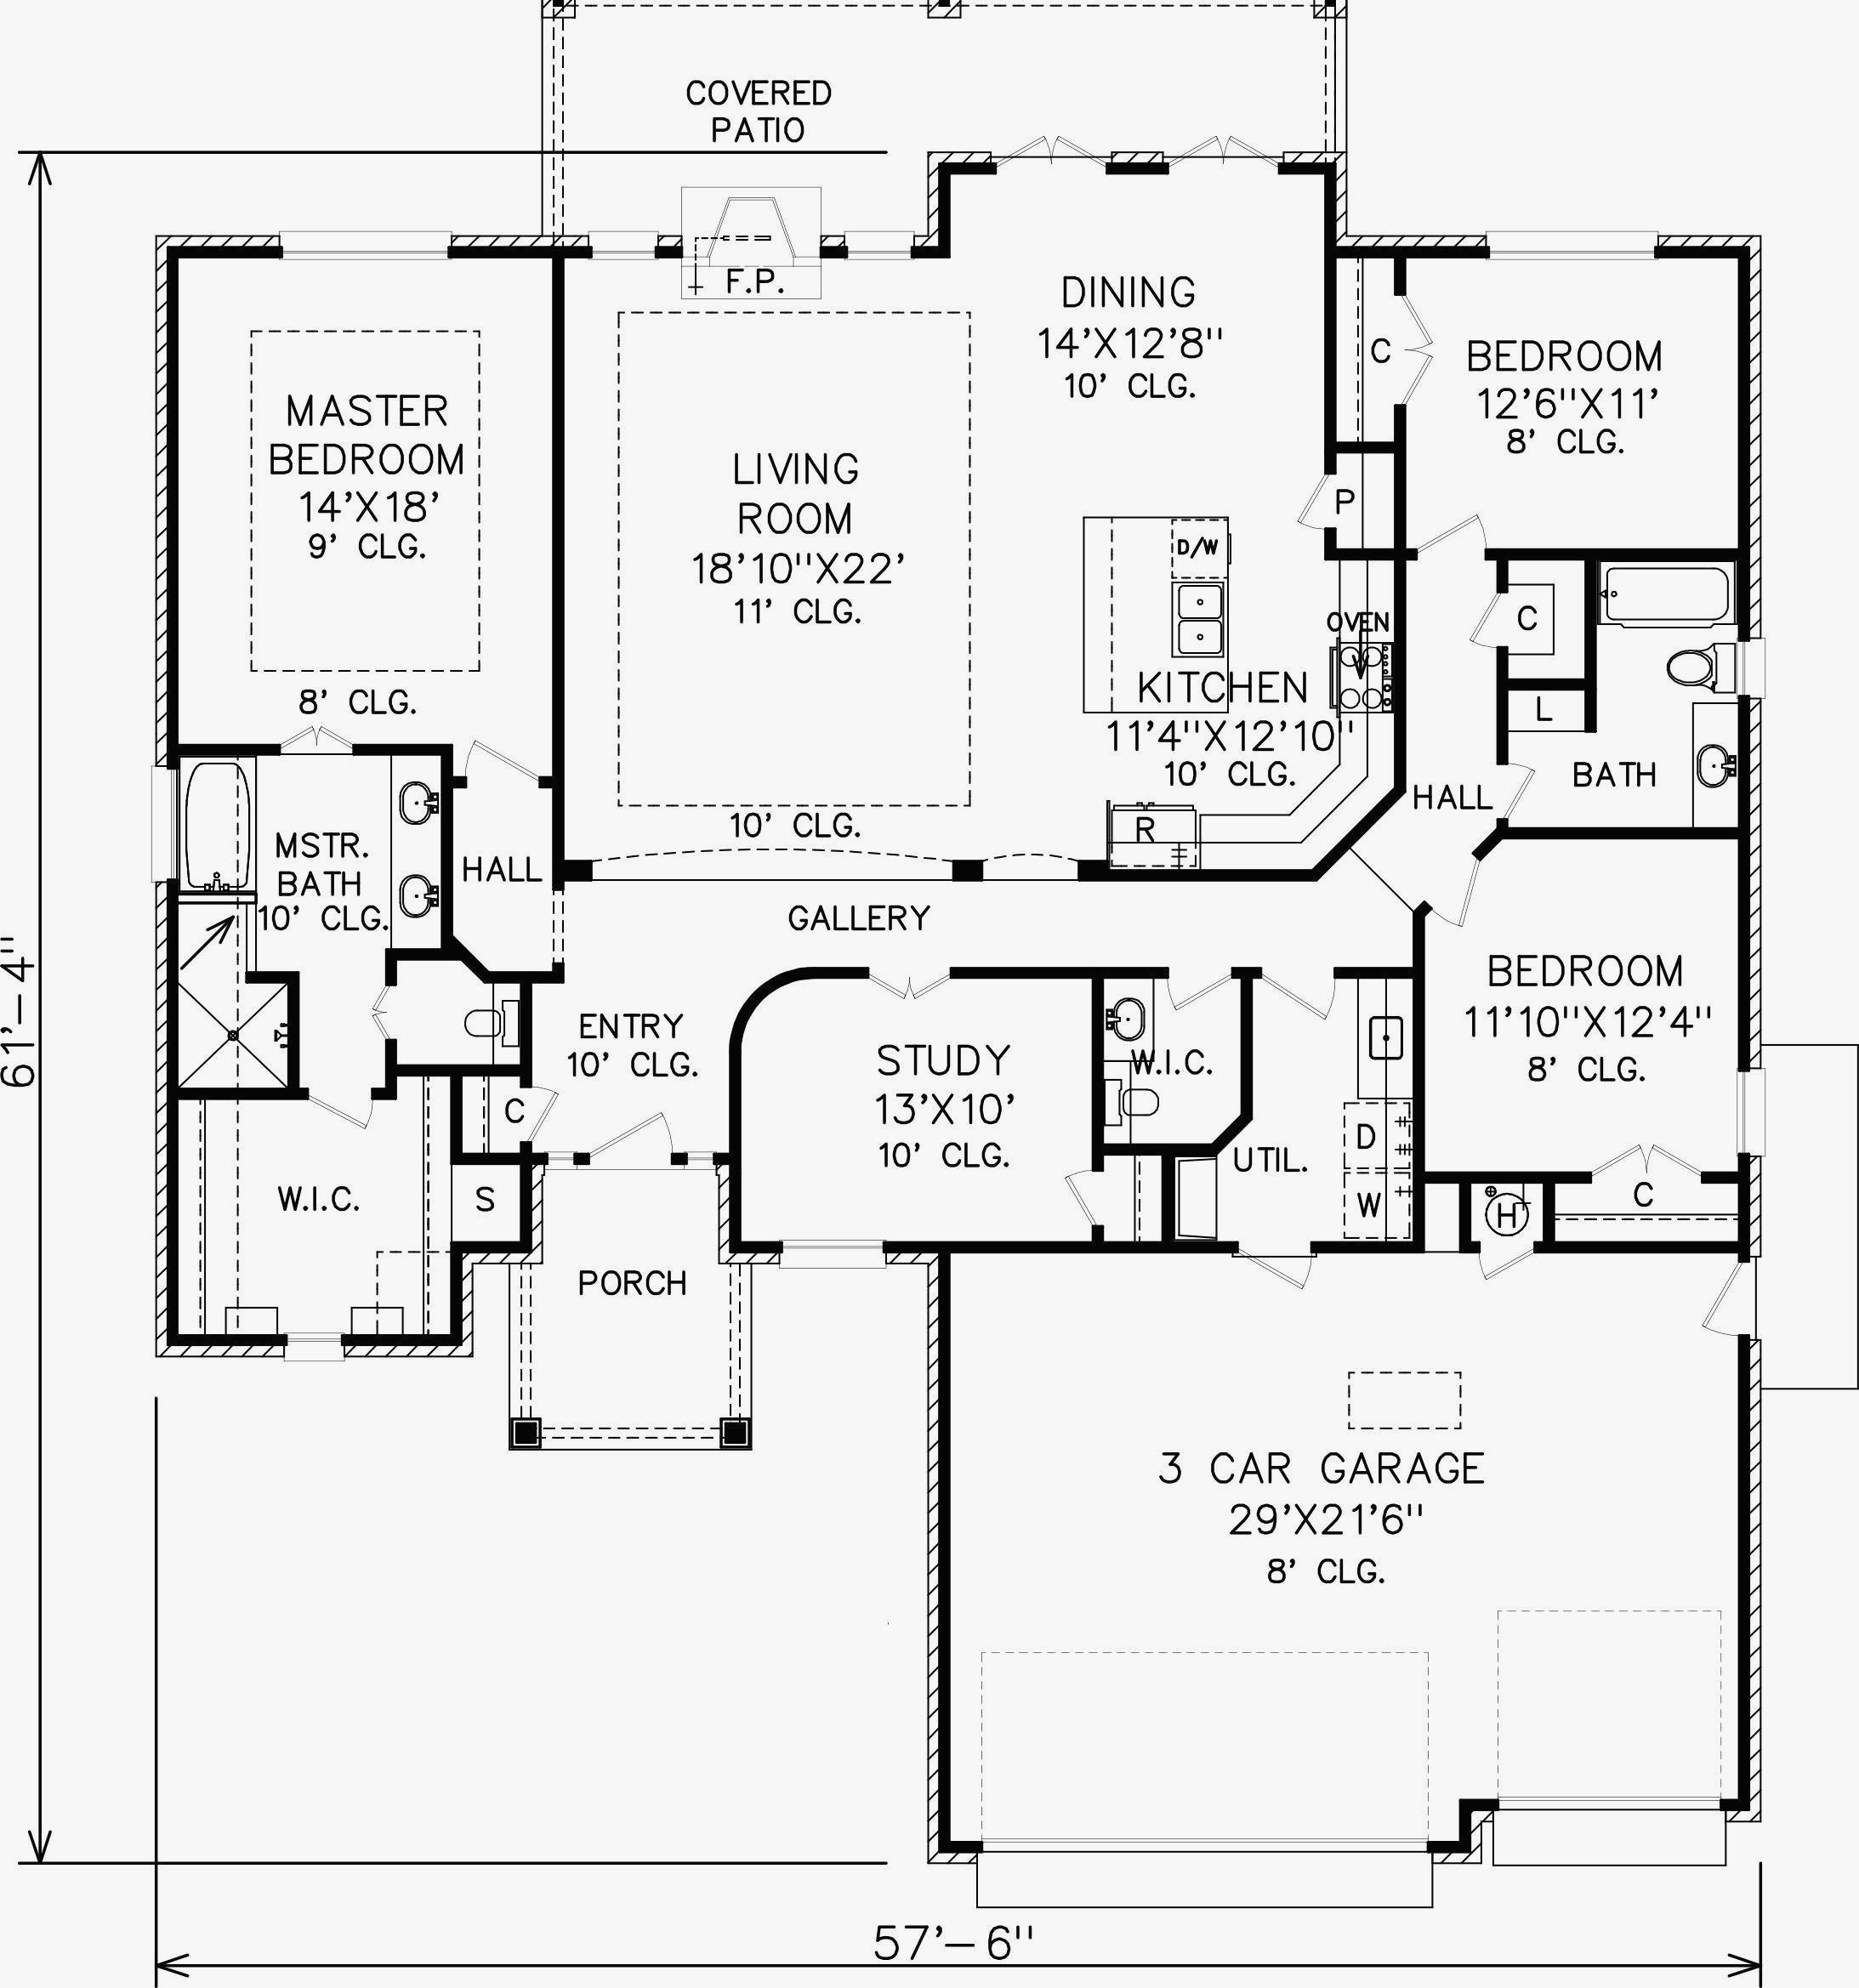room: (1462, 1799, 1482, 1862), (1457, 1796, 1496, 1819), (659, 236, 683, 259), (821, 234, 844, 255), (1719, 1801, 1740, 1824)
wall: (543, 252, 575, 893), (926, 1246, 950, 1843), (1733, 234, 1765, 645), (161, 232, 183, 758), (142, 886, 189, 1116), (1737, 1349, 1756, 1820), (1737, 697, 1761, 1062), (150, 1087, 183, 1336), (1494, 545, 1752, 566), (152, 1326, 283, 1366), (430, 742, 456, 942), (449, 232, 596, 264), (727, 1011, 744, 1261), (150, 227, 288, 259), (959, 1239, 1176, 1258), (440, 1251, 480, 1349), (1319, 231, 1492, 253), (515, 1153, 554, 1253), (1534, 1239, 1752, 1256), (439, 1062, 473, 1165), (1323, 250, 1340, 454), (514, 973, 542, 1088), (1085, 865, 1338, 877), (1090, 968, 1106, 1163), (1487, 650, 1515, 758), (1733, 1160, 1763, 1261), (1494, 825, 1738, 837), (1389, 561, 1405, 741), (935, 963, 1064, 984), (926, 148, 950, 255), (1450, 1169, 1478, 1261), (1412, 1169, 1574, 1184), (353, 1331, 456, 1356), (1391, 409, 1405, 589), (1494, 673, 1595, 697), (1237, 968, 1254, 1109), (1324, 166, 1356, 241), (1658, 238, 1770, 257), (358, 735, 453, 758), (397, 1062, 531, 1078), (1330, 964, 1431, 984), (1106, 957, 1178, 984), (1415, 978, 1422, 1240), (157, 735, 271, 751), (1162, 1141, 1178, 1254), (1583, 563, 1599, 671), (929, 150, 994, 176), (1316, 1249, 1436, 1263), (1281, 155, 1347, 180), (928, 1834, 982, 1862), (446, 1253, 550, 1267), (1330, 543, 1405, 563), (1543, 1170, 1562, 1246), (1108, 150, 1162, 176), (1319, 437, 1406, 452), (723, 1235, 783, 1258), (884, 1237, 933, 1261), (384, 1039, 405, 1095), (395, 950, 461, 968), (456, 1142, 543, 1155), (1088, 1142, 1162, 1155), (1314, 524, 1347, 550), (1431, 1841, 1471, 1862), (384, 943, 407, 980), (1579, 692, 1600, 730), (912, 236, 949, 257)
